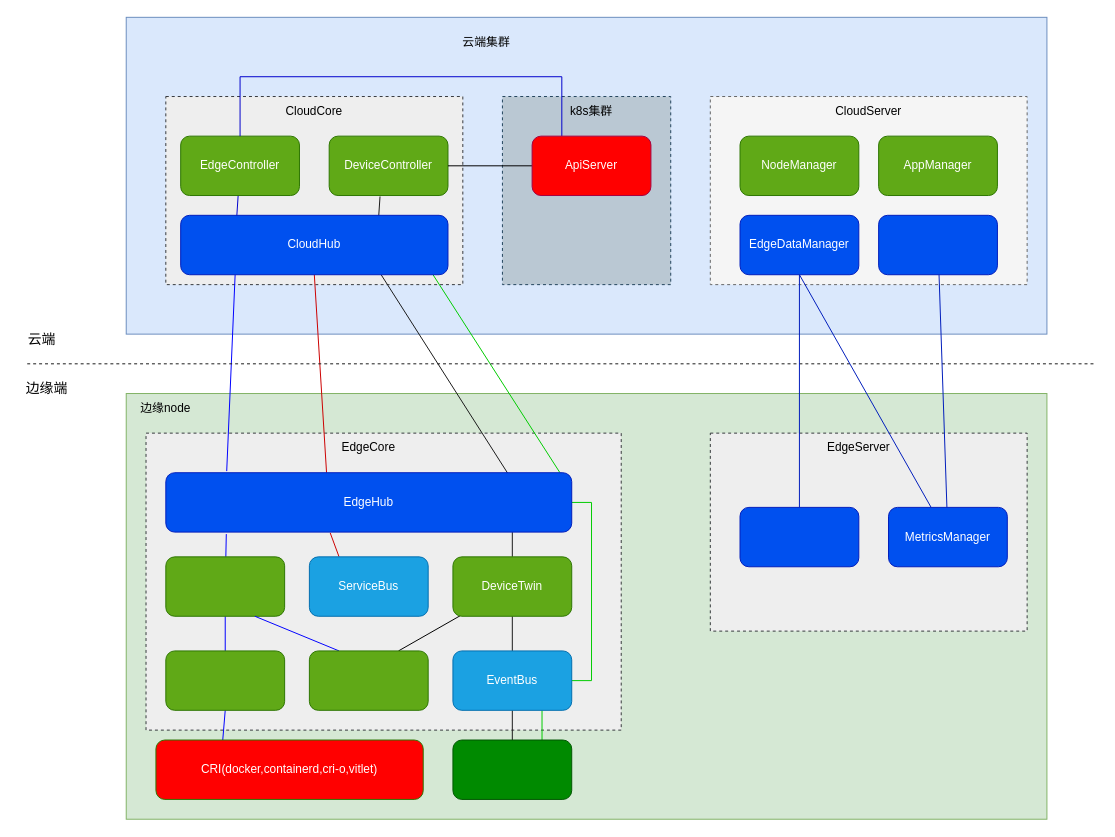
Some shapes in this 1115 by 837 pixel diagram are drawn without their labels. Each missing label, with the box of its shape:
Edged: (165, 650, 285, 710)
ImageManager: (739, 506, 859, 567)
MetaManager: (165, 556, 285, 616)
MonitorManager: (878, 214, 997, 275)
MQTT: (452, 739, 572, 799)
Sqlite: (308, 650, 428, 710)
